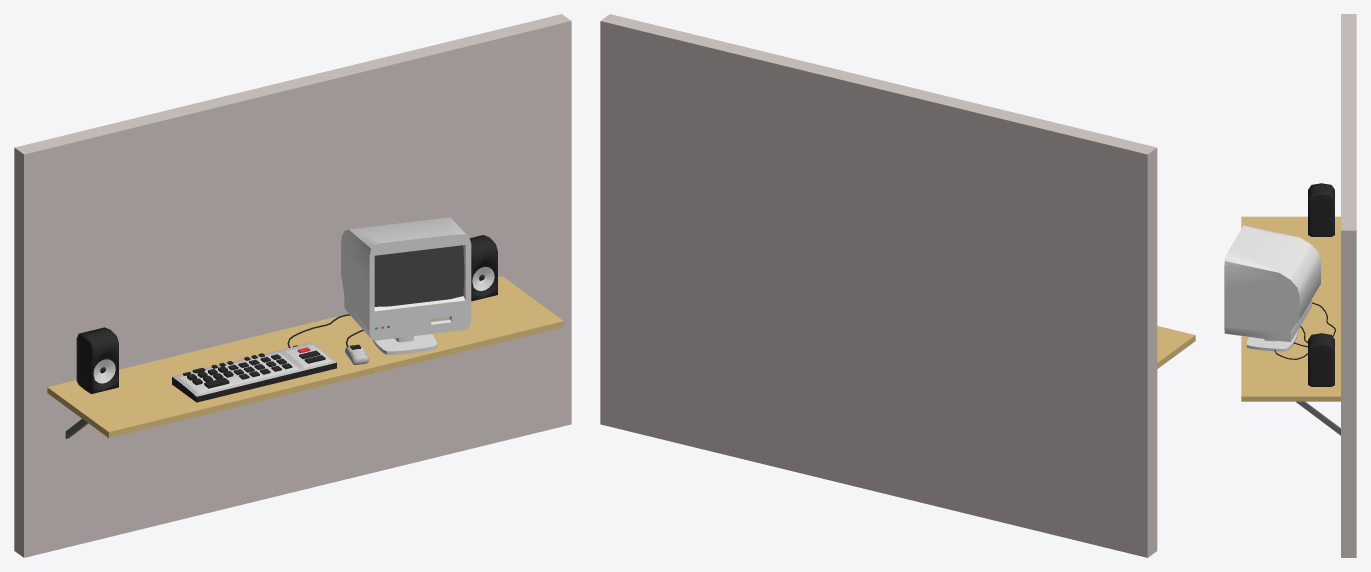
File: 8a29ebcc-8472-4c94-88bb-b384a3742a89.glb
The picture shows the model from 3 angles, left to right: view 1: azimuth 30°, elevation 25°; view 2: azimuth 150°, elevation 25°; view 3: azimuth 270°, elevation 25°; orthographic projection. The views are drawn at different scales.
Parts seen in each view (by area): view 1: Box005, Line001, Box001, GeoSphere001, GeoSphere002; view 2: Box005, Line001; view 3: Box001, Box005, Line001, GeoSphere002, GeoSphere001, Box004.
Part boxes in pixels (x1=…): Box005: x1=14, y1=14, x2=571, y2=557; Line001: x1=47, y1=276, x2=563, y2=437; Box001: x1=341, y1=217, x2=471, y2=354; GeoSphere001: x1=76, y1=327, x2=118, y2=394; GeoSphere002: x1=470, y1=235, x2=497, y2=301; Box005: x1=600, y1=14, x2=1157, y2=557; Line001: x1=1157, y1=326, x2=1195, y2=368; Box001: x1=1224, y1=225, x2=1320, y2=351; Box005: x1=1341, y1=14, x2=1356, y2=557; Line001: x1=1241, y1=216, x2=1340, y2=401; GeoSphere002: x1=1308, y1=333, x2=1334, y2=386; GeoSphere001: x1=1308, y1=183, x2=1334, y2=236; Box004: x1=1296, y1=401, x2=1340, y2=435.
Size of the model in its own units: 86.75 by 61.09 by 22.36.
